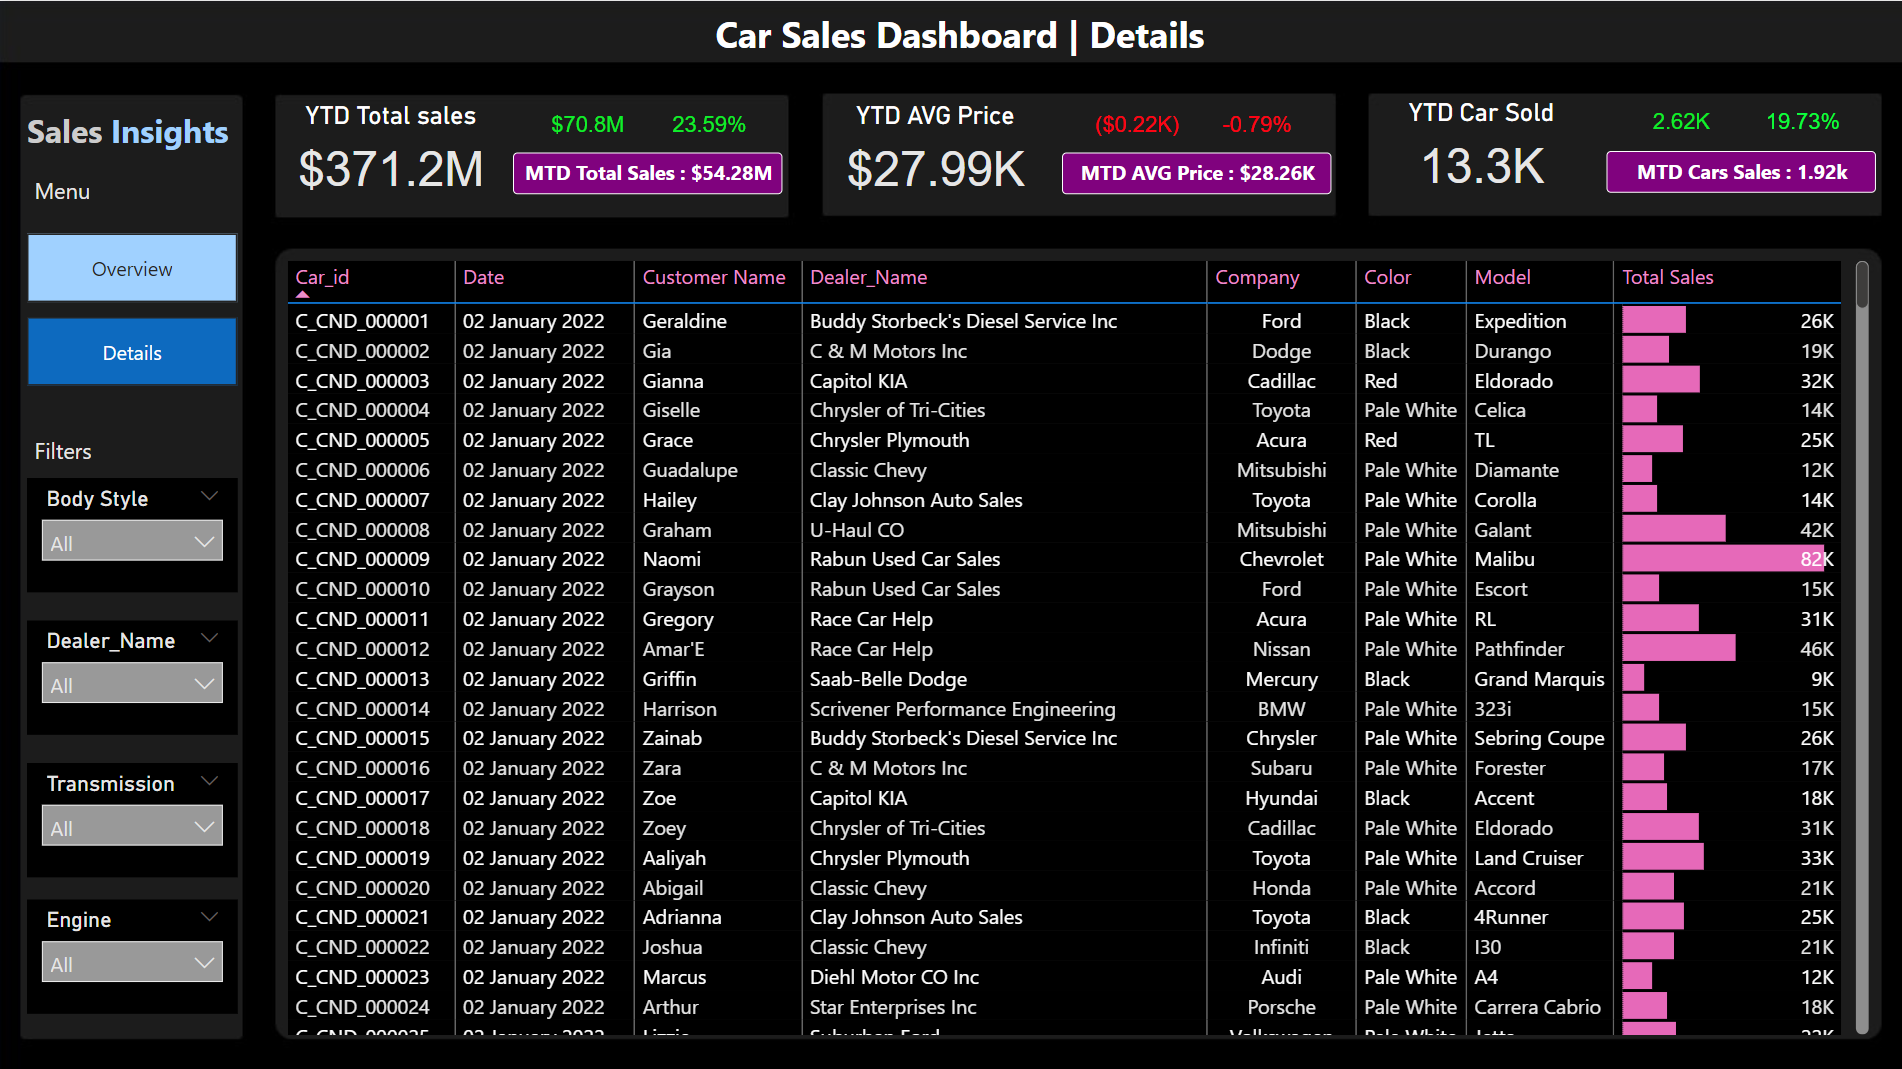

What the dashboard file says about the page in this screenshot:
{"tool":"powerbi","page":{"name":"Details","canvas":[1280,720],"ordinal":1},"visuals":[{"type":"card","title":"YTD Total sales","fields":{"Values":["car_data.YTD Total Sales"]},"box":[192.3,66,143.7,71.8],"z":0},{"type":"card","fields":{"Values":["car_data.Sales Difference"]},"box":[346.5,66,99.7,35.9],"z":1000},{"type":"card","fields":{"Values":["car_data.YOY Sales Growth"]},"box":[427.6,66,99.7,35.9],"z":2000},{"type":"card","fields":{"Values":["car_data.MTD KPI"]},"box":[346.5,102,180.8,27.8],"z":3000},{"type":"card","title":"YTD AVG Price","fields":{"Values":["car_data.YTD Average Price"]},"box":[557.3,66,143.7,71.8],"z":4000},{"type":"card","fields":{"Values":["car_data.AVg Price Difference"]},"box":[713.8,66,99.7,35.9],"z":5000},{"type":"card","fields":{"Values":["car_data.MTD Avg Price KPI"]},"box":[713.8,102,180.8,27.8],"z":6000},{"type":"card","fields":{"Values":["car_data.YOY Avg Price Difference"]},"box":[794.9,66,99.7,35.9],"z":7000},{"type":"card","title":"YTD Car Sold","fields":{"Values":["car_data.YTD Car Sold"]},"box":[922.8,64.6,143.7,71.8],"z":8000},{"type":"card","fields":{"Values":["car_data.Car Sold Diff"]},"box":[1079.2,64.6,99.7,35.9],"z":9000},{"type":"card","fields":{"Values":["car_data.MTD cars Sold KPI"]},"box":[1079.2,100.6,180.8,27.8],"z":10000},{"type":"card","fields":{"Values":["car_data.YOY Car Sold Growth"]},"box":[1160.4,64.6,99.7,35.9],"z":11000},{"type":"textbox","box":[476.9,0,380.3,46.8],"z":12000},{"type":"slicer","fields":{"Values":["car_data.Body Style"]},"box":[19.7,320,141.3,76.9],"z":13000},{"type":"slicer","fields":{"Values":["car_data.Dealer_Name"]},"box":[19.7,415.6,141.3,76.9],"z":14000},{"type":"slicer","fields":{"Values":["car_data.Transmission"]},"box":[19.7,511.2,141.3,76.9],"z":15000},{"type":"slicer","fields":{"Values":["car_data.Engine"]},"box":[19.7,602.6,141.3,76.9],"z":16000},{"type":"textbox","box":[19.7,285.7,63.4,34.3],"z":17000},{"type":"tableEx","fields":{"Values":["car_data.Car_id","car_data.Date","car_data.Customer Name","car_data.Dealer_Name","car_data.Company","car_data.Color","car_data.Model","Sum(car_data.Price ($))"]},"box":[189.1,169.4,1071.2,528.8],"z":18000},{"type":"textbox","box":[15.6,66.5,156.9,47.8],"z":19000},{"type":"textbox","box":[19.7,111.2,60.3,34.3],"z":20000},{"type":"pageNavigator","box":[19.7,155.8,141.3,102.9],"z":21000}]}

Visuals, with their boxes in screenshot pixels (x1, y1, x2, y2), scaled from the page's 1280x720 canvas onto the 1902x1069 screenshot:
"YTD Total sales" card: x1=286 y1=98 x2=499 y2=205
card - car_data.Sales Difference: x1=515 y1=98 x2=663 y2=151
card - car_data.YOY Sales Growth: x1=635 y1=98 x2=784 y2=151
card - car_data.MTD KPI: x1=515 y1=151 x2=784 y2=193
"YTD AVG Price" card: x1=828 y1=98 x2=1042 y2=205
card - car_data.AVg Price Difference: x1=1061 y1=98 x2=1209 y2=151
card - car_data.MTD Avg Price KPI: x1=1061 y1=151 x2=1329 y2=193
card - car_data.YOY Avg Price Difference: x1=1181 y1=98 x2=1329 y2=151
"YTD Car Sold" card: x1=1371 y1=96 x2=1585 y2=203
card - car_data.Car Sold Diff: x1=1604 y1=96 x2=1752 y2=149
card - car_data.MTD cars Sold KPI: x1=1604 y1=149 x2=1872 y2=191
card - car_data.YOY Car Sold Growth: x1=1724 y1=96 x2=1872 y2=149
textbox: x1=709 y1=0 x2=1274 y2=69
slicer - car_data.Body Style: x1=29 y1=475 x2=239 y2=589
slicer - car_data.Dealer_Name: x1=29 y1=617 x2=239 y2=731
slicer - car_data.Transmission: x1=29 y1=759 x2=239 y2=873
slicer - car_data.Engine: x1=29 y1=895 x2=239 y2=1009
textbox: x1=29 y1=424 x2=123 y2=475
tableEx - car_data.Car_id x car_data.Date: x1=281 y1=252 x2=1873 y2=1037
textbox: x1=23 y1=99 x2=256 y2=170
textbox: x1=29 y1=165 x2=119 y2=216
pageNavigator: x1=29 y1=231 x2=239 y2=384
